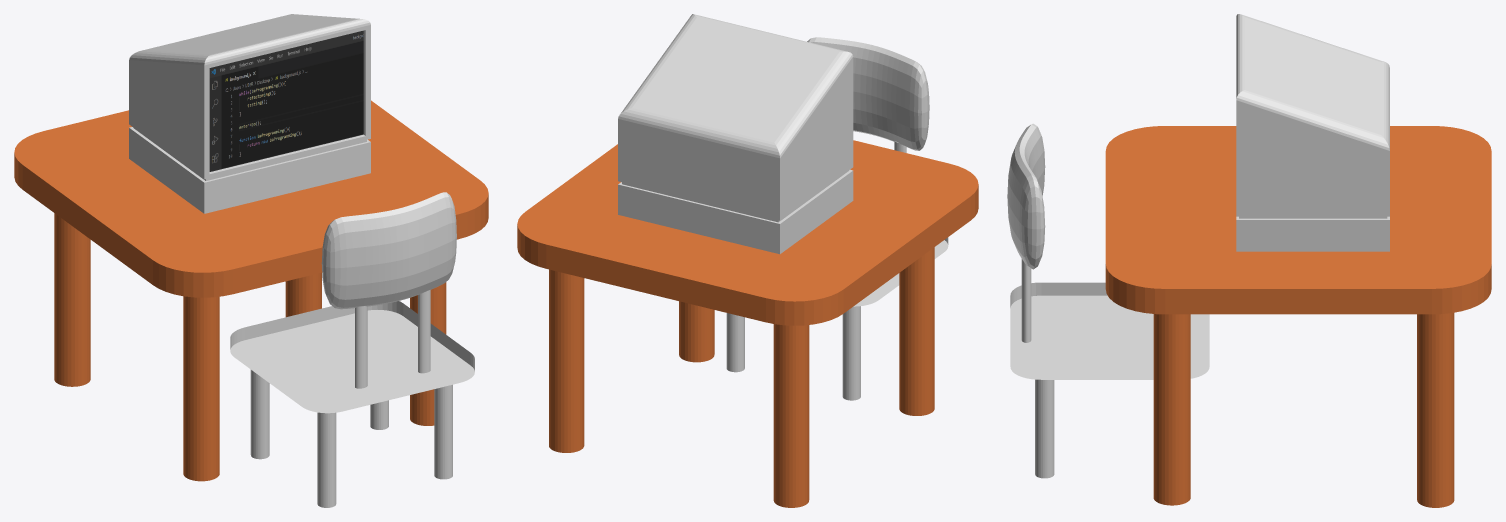
Rendered from desk_com2.glb.
The picture shows the model from 3 angles, left to right: view 1: azimuth 30°, elevation 25°; view 2: azimuth 150°, elevation 25°; view 3: azimuth 270°, elevation 25°; orthographic projection. The views are drawn at different scales.
Parts seen in each view (by area): view 1: desk2, com2, chair_b2, screen2, chair_f2, silver2; view 2: desk2, com2, chair_f2, silver2, chair_b2; view 3: desk2, com2, chair_b2, chair_f2, silver2.
Part boxes in pixels (box(x1,y1,x2,y2)): desk2: box(14, 100, 488, 481); com2: box(129, 14, 370, 213); chair_b2: box(230, 301, 474, 413); screen2: box(209, 30, 363, 171); chair_f2: box(321, 192, 456, 309); silver2: box(250, 290, 452, 507); desk2: box(517, 140, 978, 507); com2: box(618, 14, 853, 254); chair_f2: box(807, 37, 929, 150); silver2: box(726, 141, 906, 400); chair_b2: box(853, 237, 948, 306); desk2: box(1105, 126, 1491, 507); com2: box(1236, 14, 1389, 251); chair_b2: box(1010, 282, 1209, 379); chair_f2: box(1007, 123, 1045, 269); silver2: box(1021, 259, 1054, 478).
Bounding box in the file's own units: 0.4172 × 0.4657 × 0.5236.
2 materials, 1 textured.
